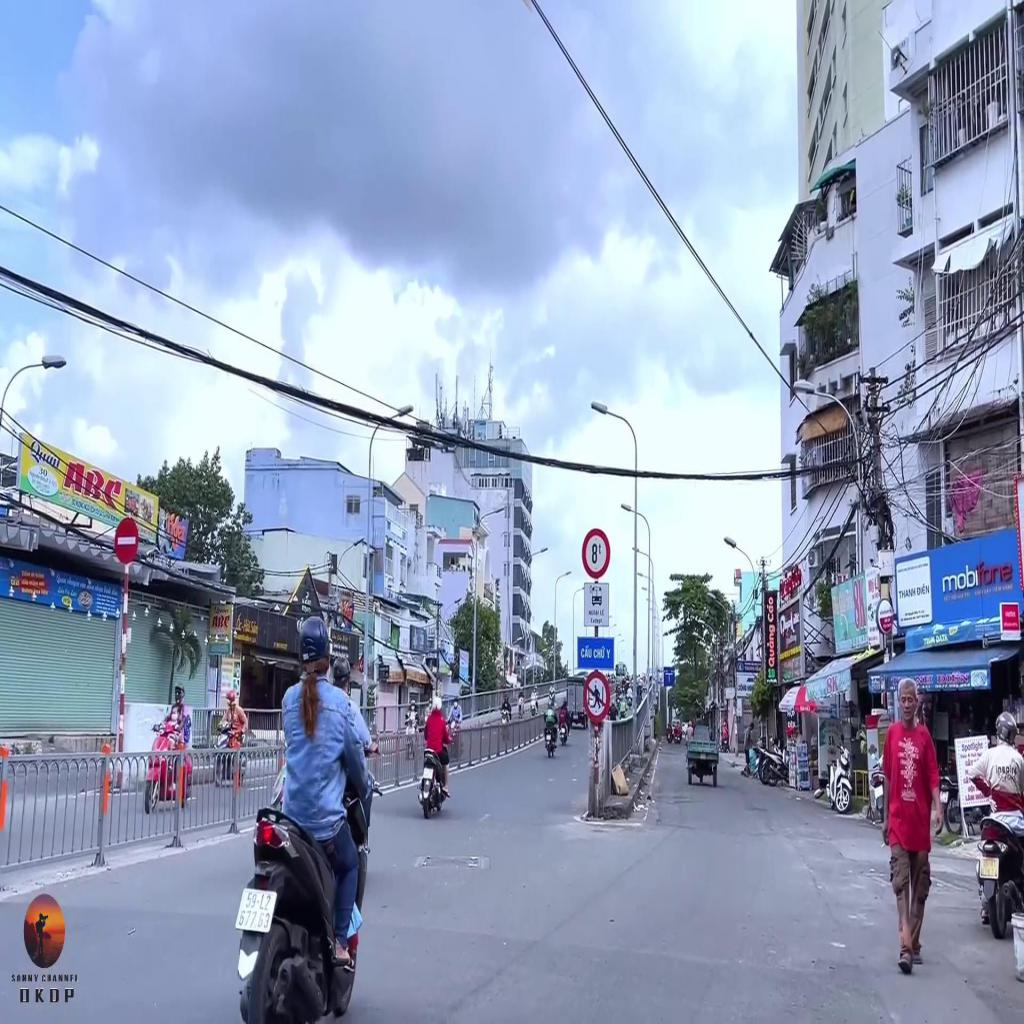cam_xe_di_nguoc_chieu: (114, 518, 138, 564)
khac: (583, 672, 611, 726), (581, 528, 611, 578), (577, 636, 613, 670), (584, 581, 609, 626)
